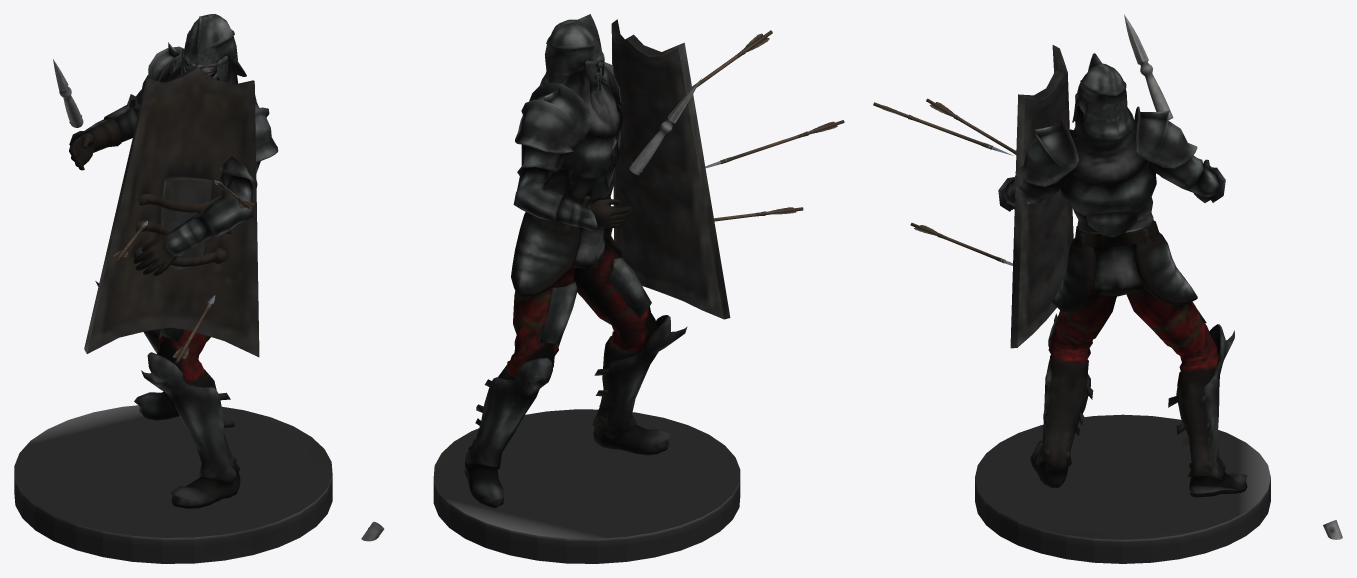
The picture shows the model from 3 angles, left to right: view 1: azimuth 30°, elevation 25°; view 2: azimuth 150°, elevation 25°; view 3: azimuth 270°, elevation 25°; orthographic projection. The views are drawn at different scales.
Visible parts, largest first — view 1: highgatekeeper01_generalrouge_reference1.smd; view 2: highgatekeeper01_generalrouge_reference1.smd; view 3: highgatekeeper01_generalrouge_reference1.smd.
Boxes of the visible parts, x1=… form: highgatekeeper01_generalrouge_reference1.smd: x1=14, y1=14, x2=332, y2=563; highgatekeeper01_generalrouge_reference1.smd: x1=361, y1=14, x2=844, y2=563; highgatekeeper01_generalrouge_reference1.smd: x1=873, y1=14, x2=1342, y2=563.
Bounding box in the file's own units: 1.09 × 1.69 × 1.59.
1 material, 1 textured.
